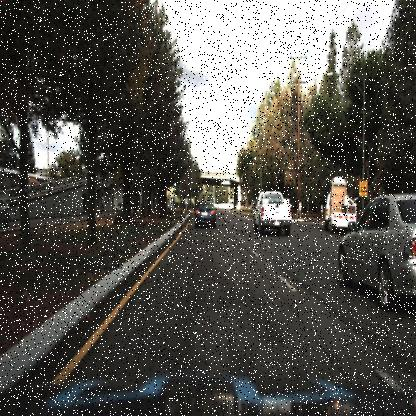car: (334, 183, 415, 315), (252, 179, 298, 244), (320, 175, 359, 235), (191, 189, 219, 233), (113, 201, 126, 217)
truck: (318, 172, 356, 232)
